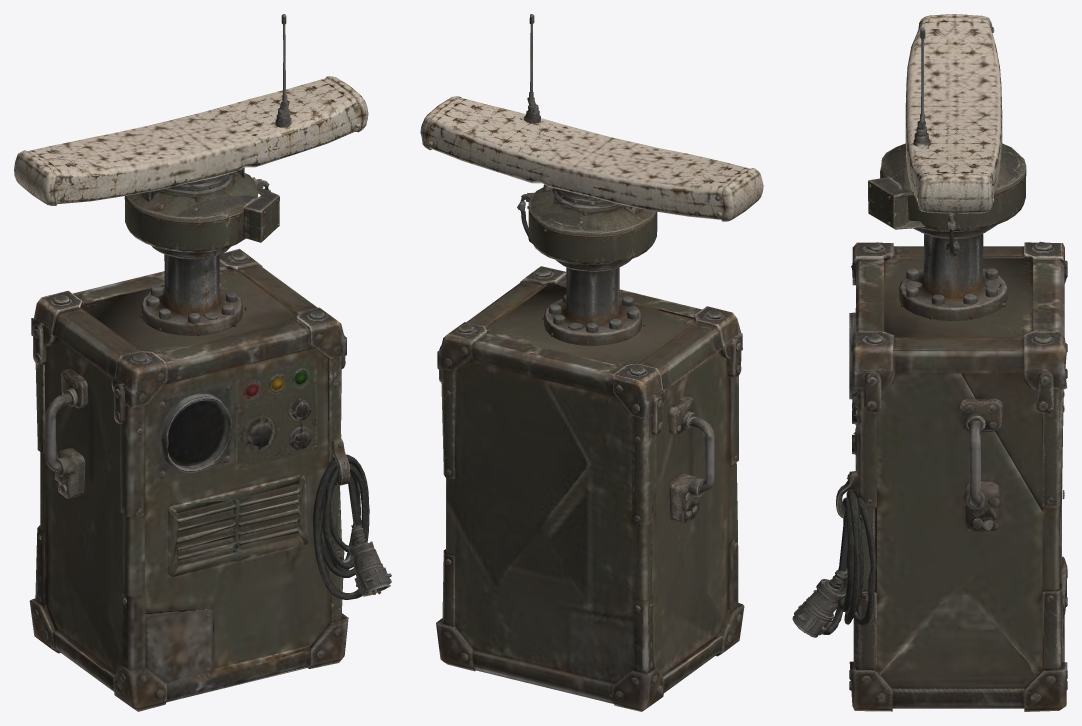
File: train-radar.glb
3 views of the same model, side by side, from view 1: azimuth 30°, elevation 25°; view 2: azimuth 150°, elevation 25°; view 3: azimuth 270°, elevation 25° (orthographic). The views are drawn at different scales.
Visible parts, largest first — view 1: train-radar; view 2: train-radar; view 3: train-radar.
Boxes of the visible parts, x1=… form: train-radar: x1=14, y1=14, x2=391, y2=711; train-radar: x1=420, y1=14, x2=763, y2=711; train-radar: x1=792, y1=14, x2=1067, y2=711.
Size of the model in its own units: 0.5553 by 1.03 by 0.3823.
1 material, 1 textured.
